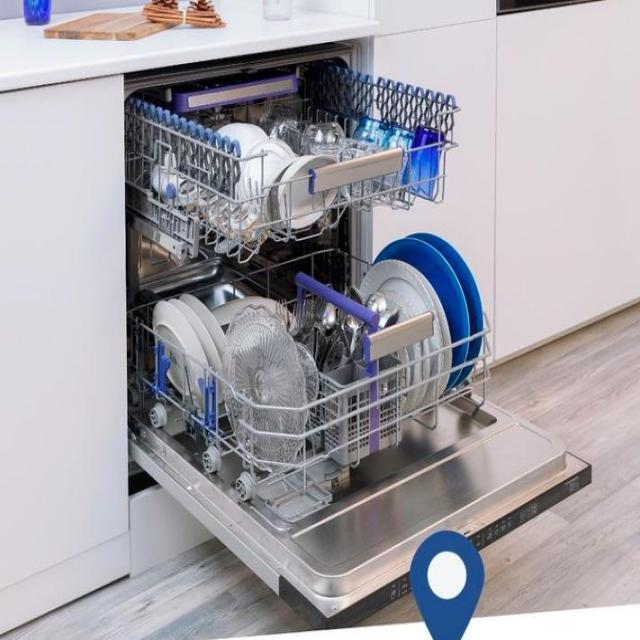dishwasher: (124, 35, 591, 628)
